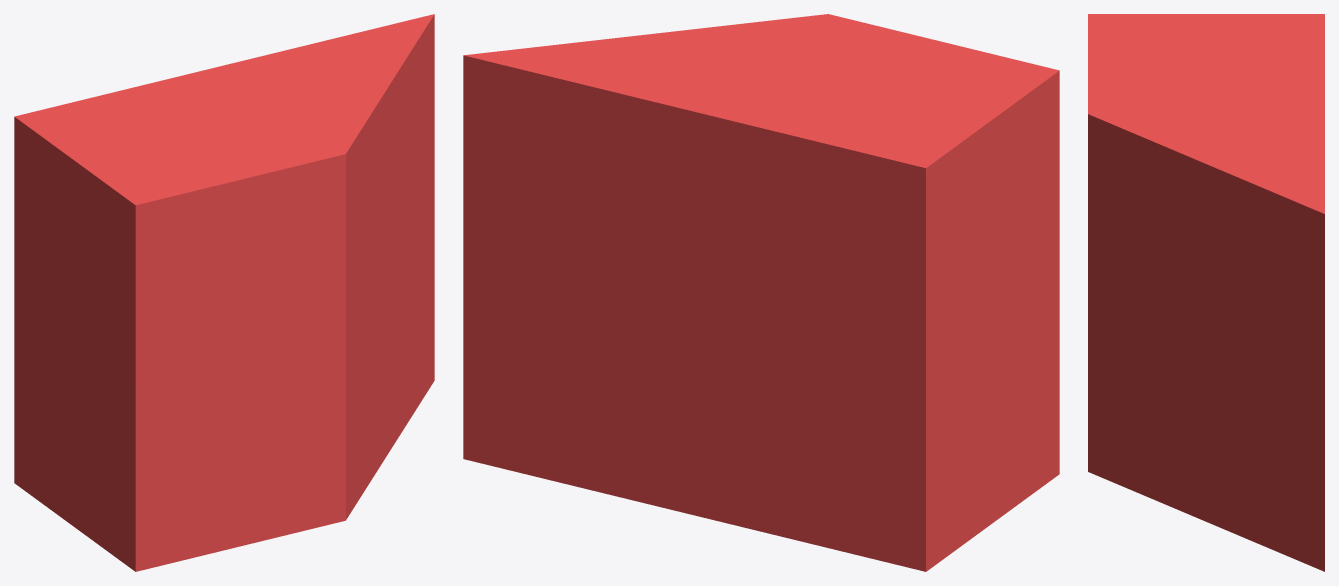
The model's file is wedge.dae.
3 views of the same model, side by side, from view 1: azimuth 30°, elevation 25°; view 2: azimuth 150°, elevation 25°; view 3: azimuth 270°, elevation 25° (orthographic). The views are drawn at different scales.
Visible parts, largest first — view 1: node; view 2: node; view 3: node.
Boxes of the visible parts, x1=… form: node: x1=14, y1=14, x2=434, y2=571; node: x1=463, y1=14, x2=1059, y2=571; node: x1=1088, y1=14, x2=1324, y2=571.
Size of the model in its own units: 9 by 7.5 by 4.5.
